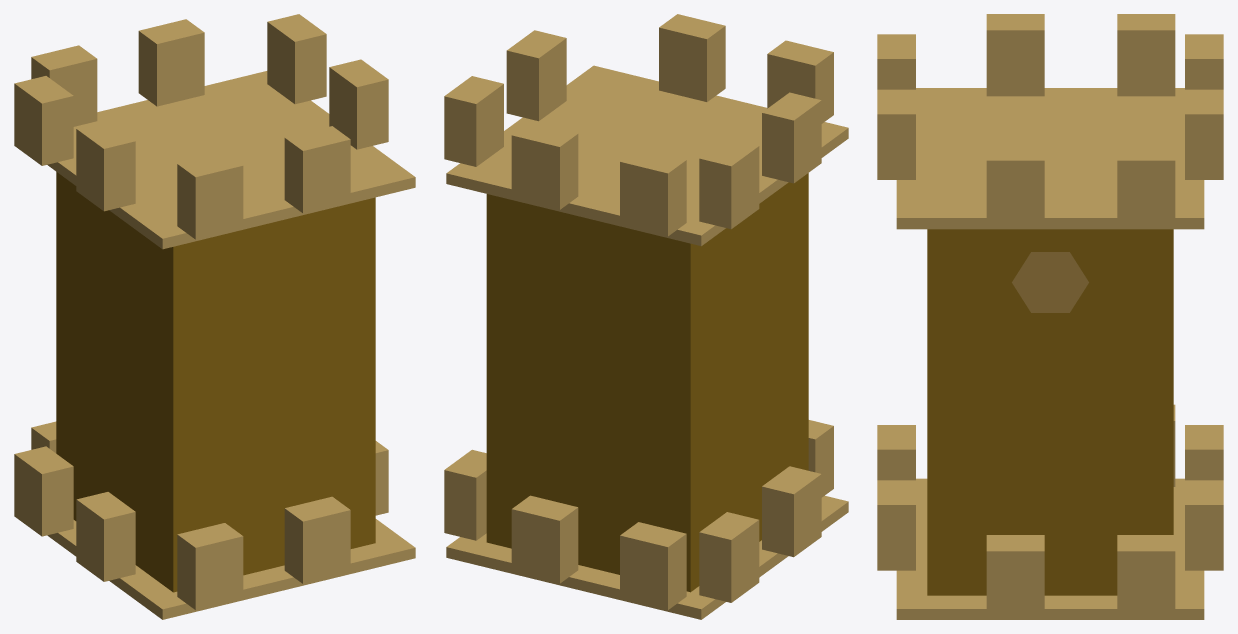
File: citadel_t1.glb
3 views of the same model, side by side, from view 1: azimuth 30°, elevation 25°; view 2: azimuth 150°, elevation 25°; view 3: azimuth 270°, elevation 25° (orthographic). The views are drawn at different scales.
Parts seen in each view (by area): view 1: building-citadel; view 2: building-citadel; view 3: building-citadel.
Boxes of the visible parts, x1=… form: building-citadel: x1=14, y1=14, x2=415, y2=619; building-citadel: x1=444, y1=14, x2=848, y2=619; building-citadel: x1=877, y1=14, x2=1223, y2=619.
Size of the model in its own units: 0.0716 by 0.1066 by 0.0716.
